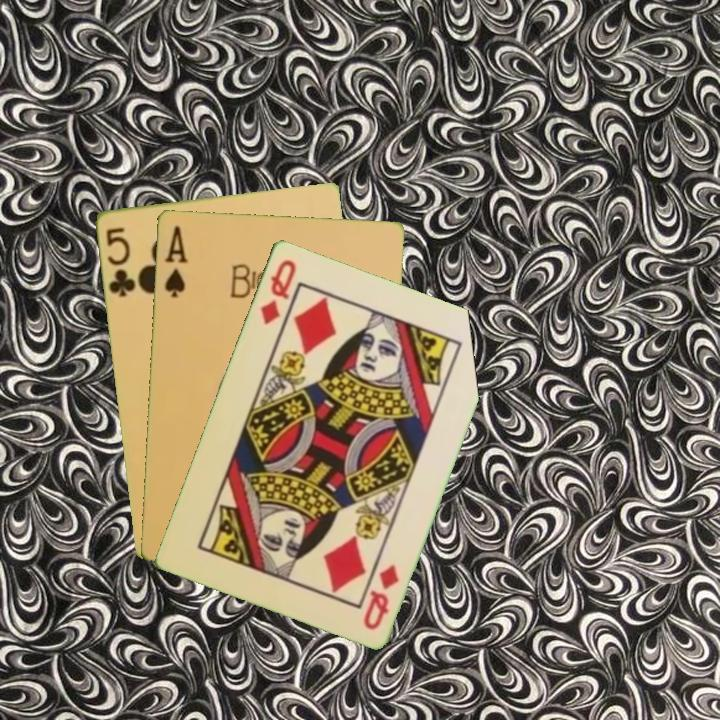5c: (102, 223, 138, 299)
As: (160, 222, 190, 300)
Qd: (256, 255, 299, 327), (359, 560, 402, 632)
